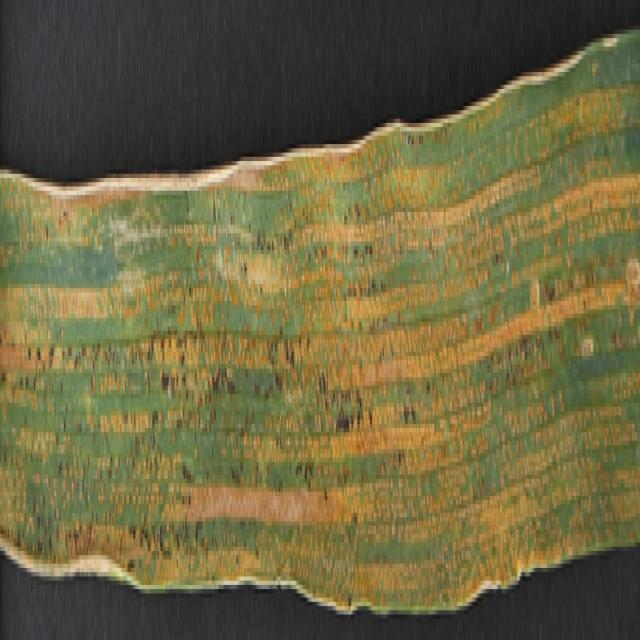leaf rust: (0, 63, 640, 584)
